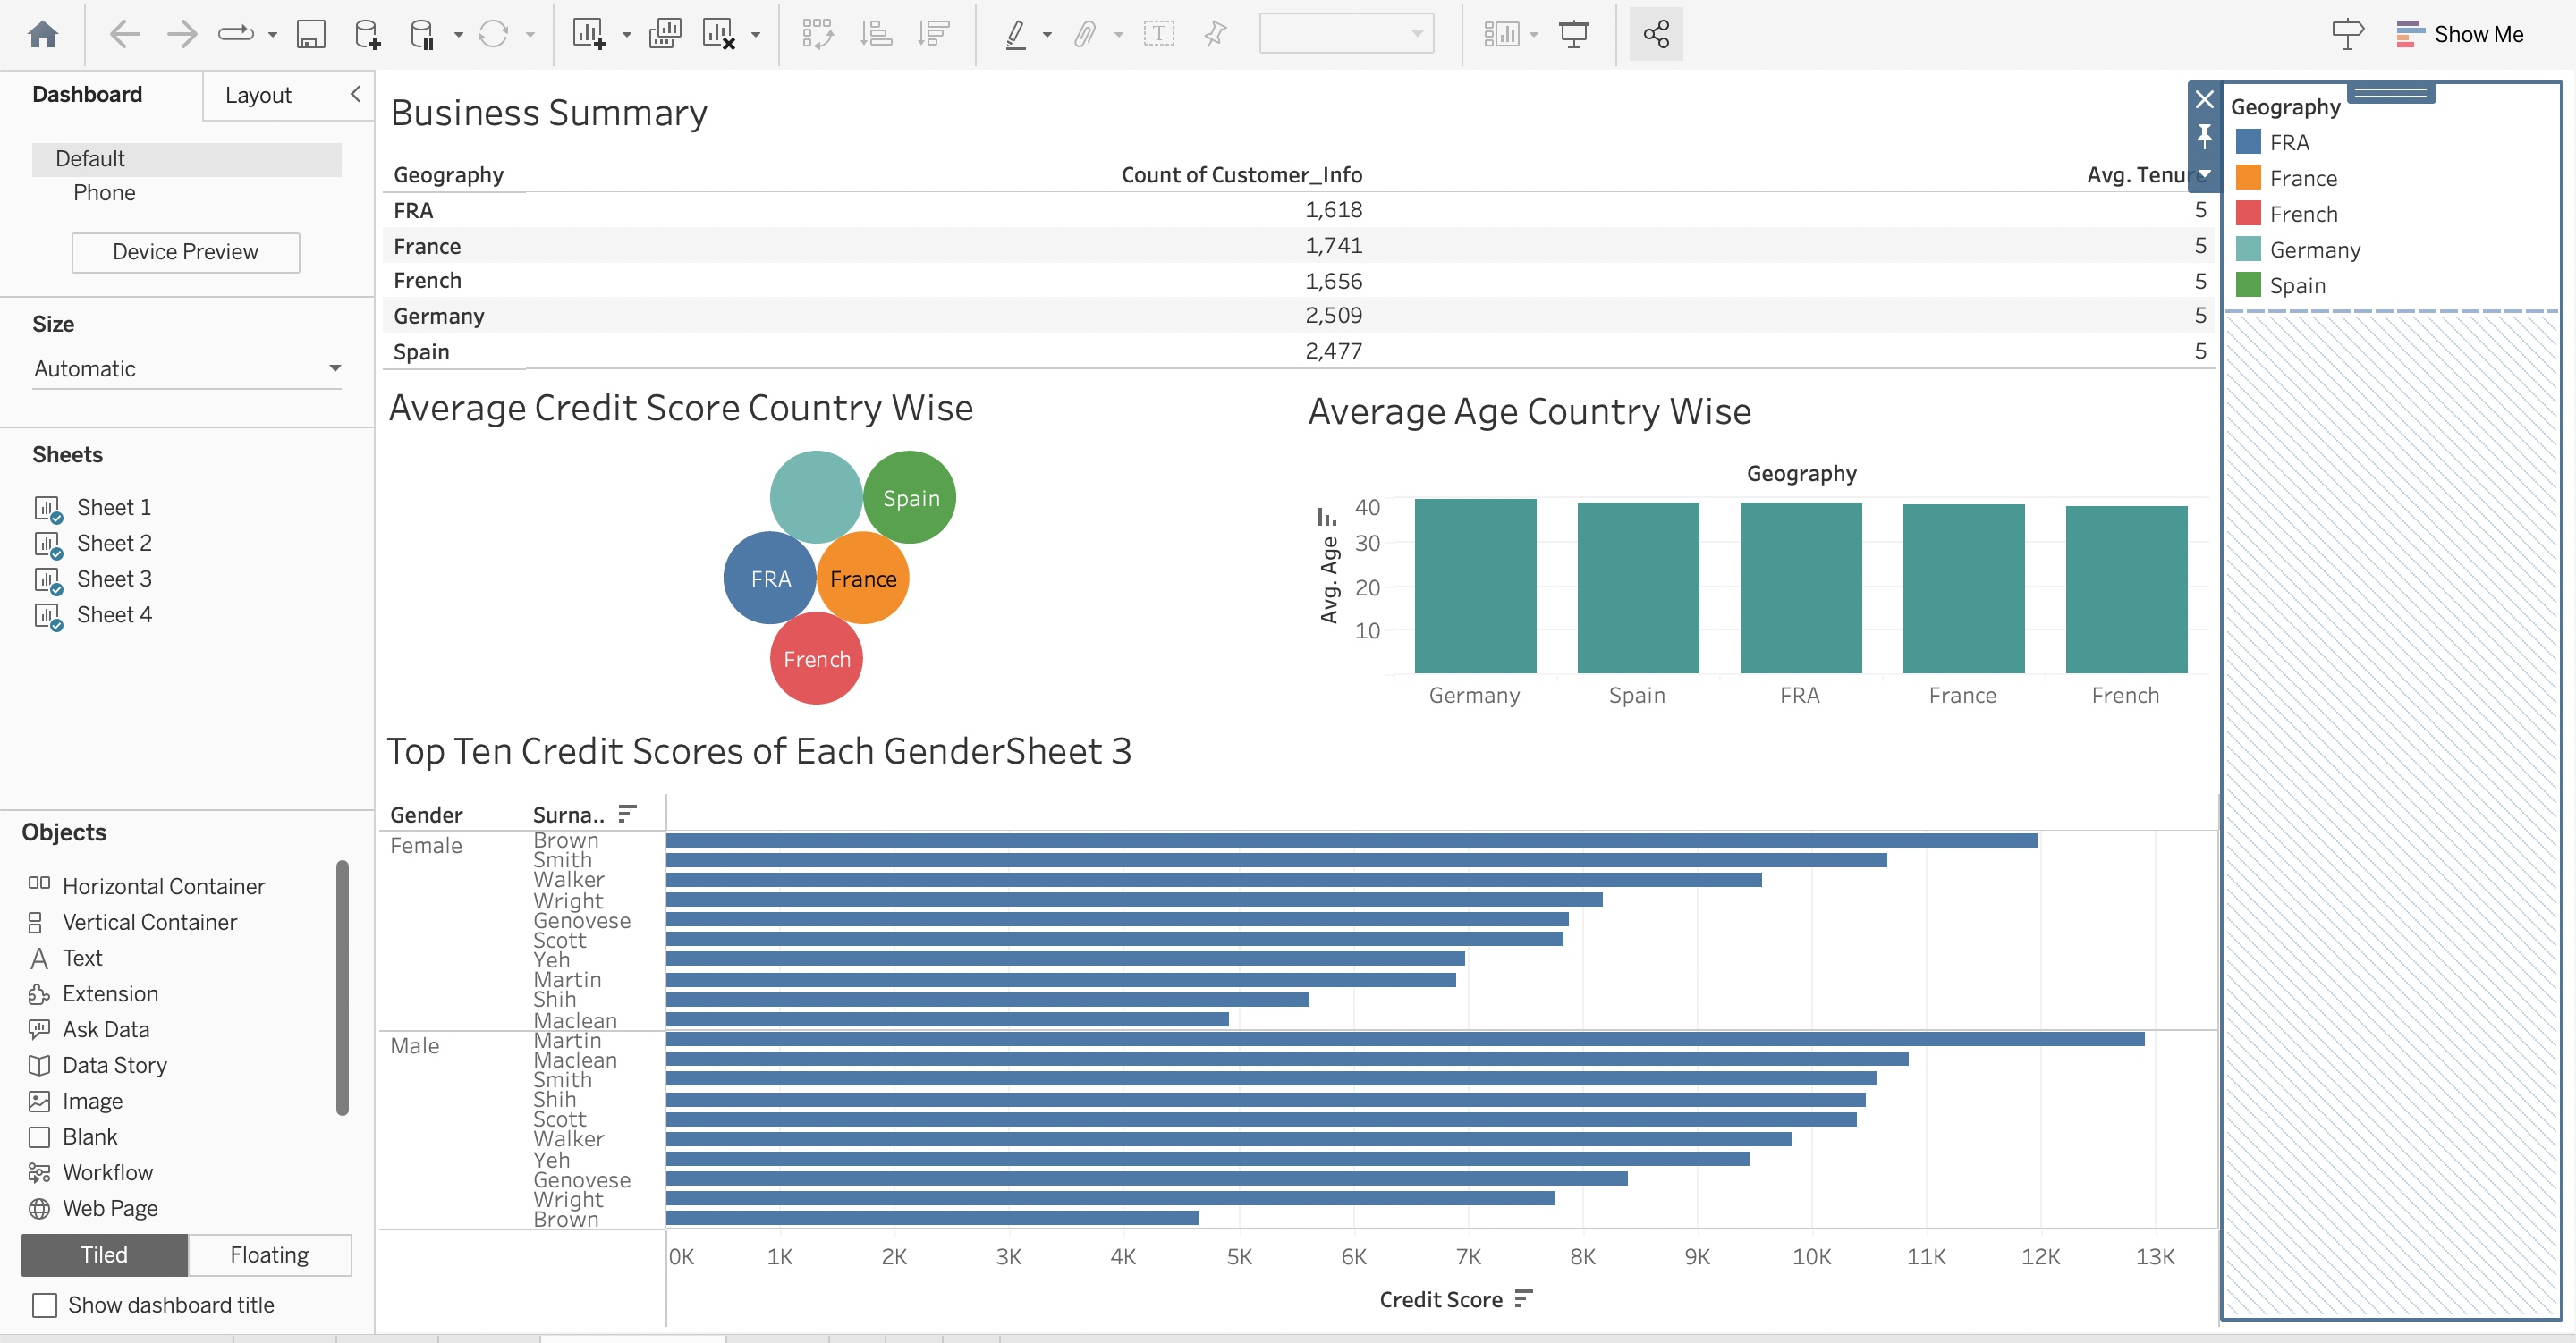

Layout of this report page (visuals, bound fields, positions):
{"tool":"tableau","page":{"name":"Dashboard 1","canvas":[1000,1000],"units":"permille","ordinal":0},"visuals":[{"type":"worksheet","title":"Sheet 4","mark":"Automatic","rows":["Geography"],"box":[3.2,7.1,834,230.9]},{"type":"legend","title":"Sheet 2","param":"[federated.1nql96v11gdd0f1c4xlic04urr4z].[none:Geography:nk]","box":[840.5,11.3,153,178.5]},{"type":"worksheet","title":"Sheet 2","mark":"Circle","box":[2.4,240.8,417.4,262]},{"type":"worksheet","title":"Sheet 1","mark":"Automatic","rows":["Age"],"cols":["Geography"],"box":[420.7,243.6,413.3,264.9]},{"type":"worksheet","title":"Sheet 3","mark":"Automatic","rows":["Gender","Surname"],"cols":["CreditScore"],"box":[1.6,512.8,837.3,484.4]}]}

Visuals, with their boxes on the dashboard's canvas, which has no fixed pixel size, in thousandths of its width and height (x1, y1, x2, y2). These are canvas units, not pixel positions in the 2576x1343 screenshot, which may show the page scaled, cropped or inside an application window:
"Sheet 4" worksheet: [3,7,837,238]
"Sheet 2" legend: [840,11,994,190]
"Sheet 2" worksheet (Circle marks): [2,241,420,503]
"Sheet 1" worksheet: [421,244,834,508]
"Sheet 3" worksheet: [2,513,839,997]
